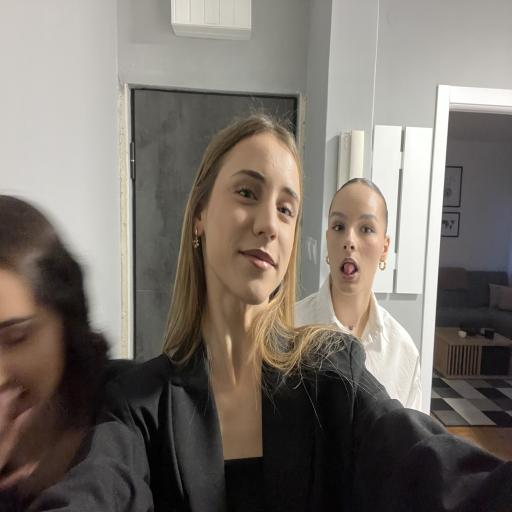marija: (327, 184, 389, 296)
masa: (206, 132, 302, 304)
